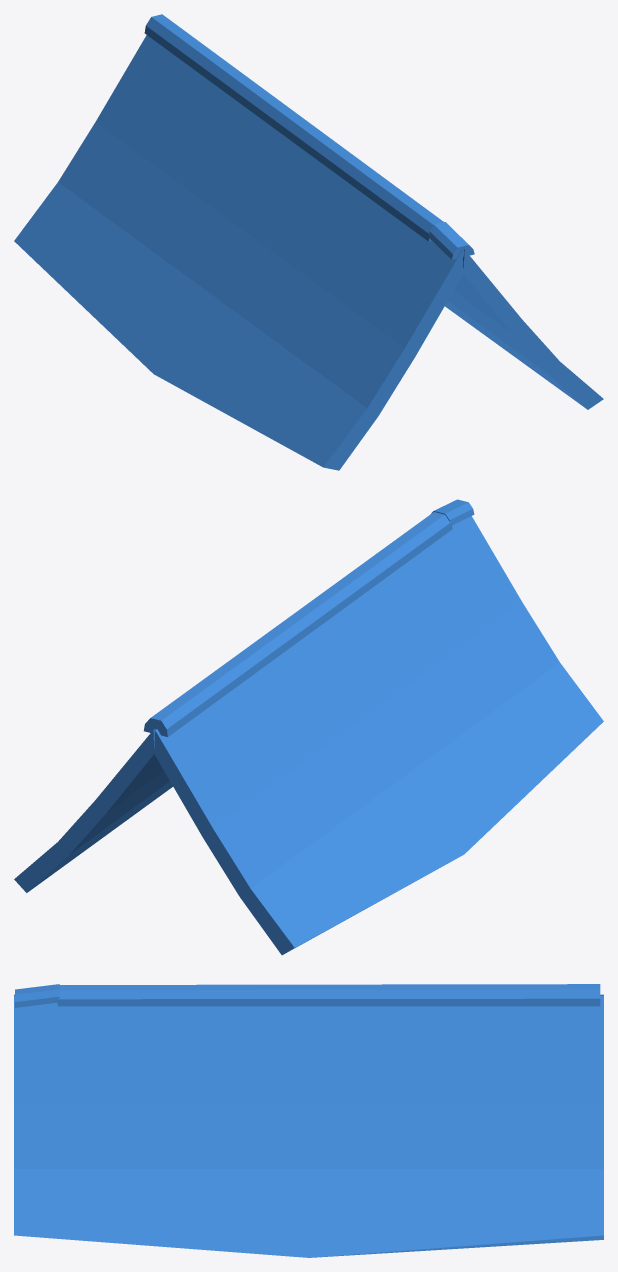
The model's file is Collision_Roof_FlatTiles_6x14.fbx.
3 renders of one model, top to bottom at view 1: azimuth 30°, elevation 25°; view 2: azimuth 150°, elevation 25°; view 3: azimuth 270°, elevation 25°, orthographic. The views are drawn at different scales.
Parts seen in each view (by area): view 1: UCX_Roof_FlatTiles_6x14_01; view 2: UCX_Roof_FlatTiles_6x14_01; view 3: UCX_Roof_FlatTiles_6x14_01.
Part boxes in pixels (x1,y1,x2,y2): UCX_Roof_FlatTiles_6x14_01: (14,14,603,470); UCX_Roof_FlatTiles_6x14_01: (14,499,603,955); UCX_Roof_FlatTiles_6x14_01: (14,984,603,1257).
Bounding box in the file's own units: 913 × 587 × 1575.
